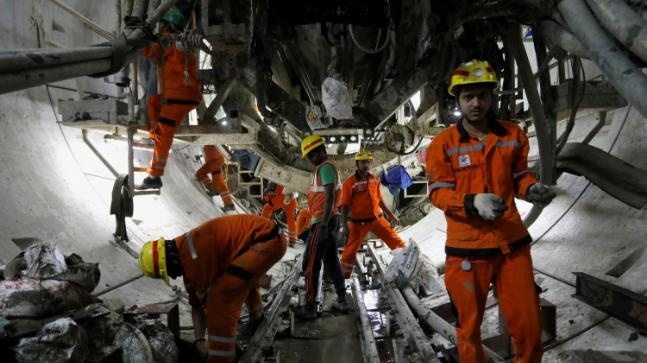yellow: (449, 59, 499, 121), (137, 236, 182, 285), (298, 134, 329, 166), (353, 151, 374, 173)
